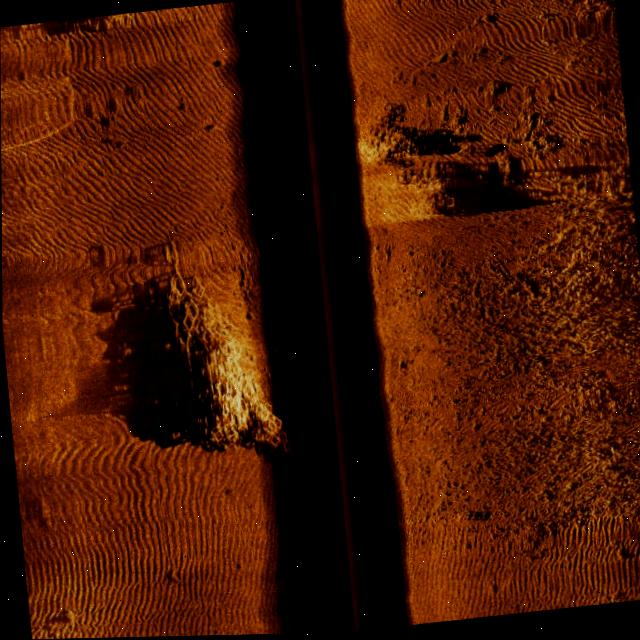artificial reef: (153, 227, 298, 465)
